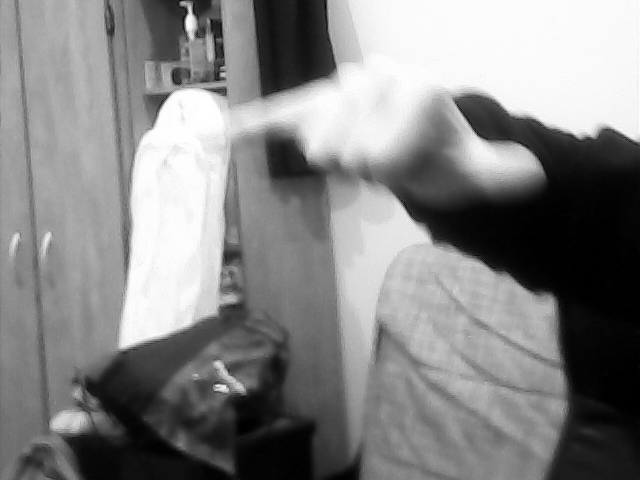aloha: (181, 51, 554, 197)
